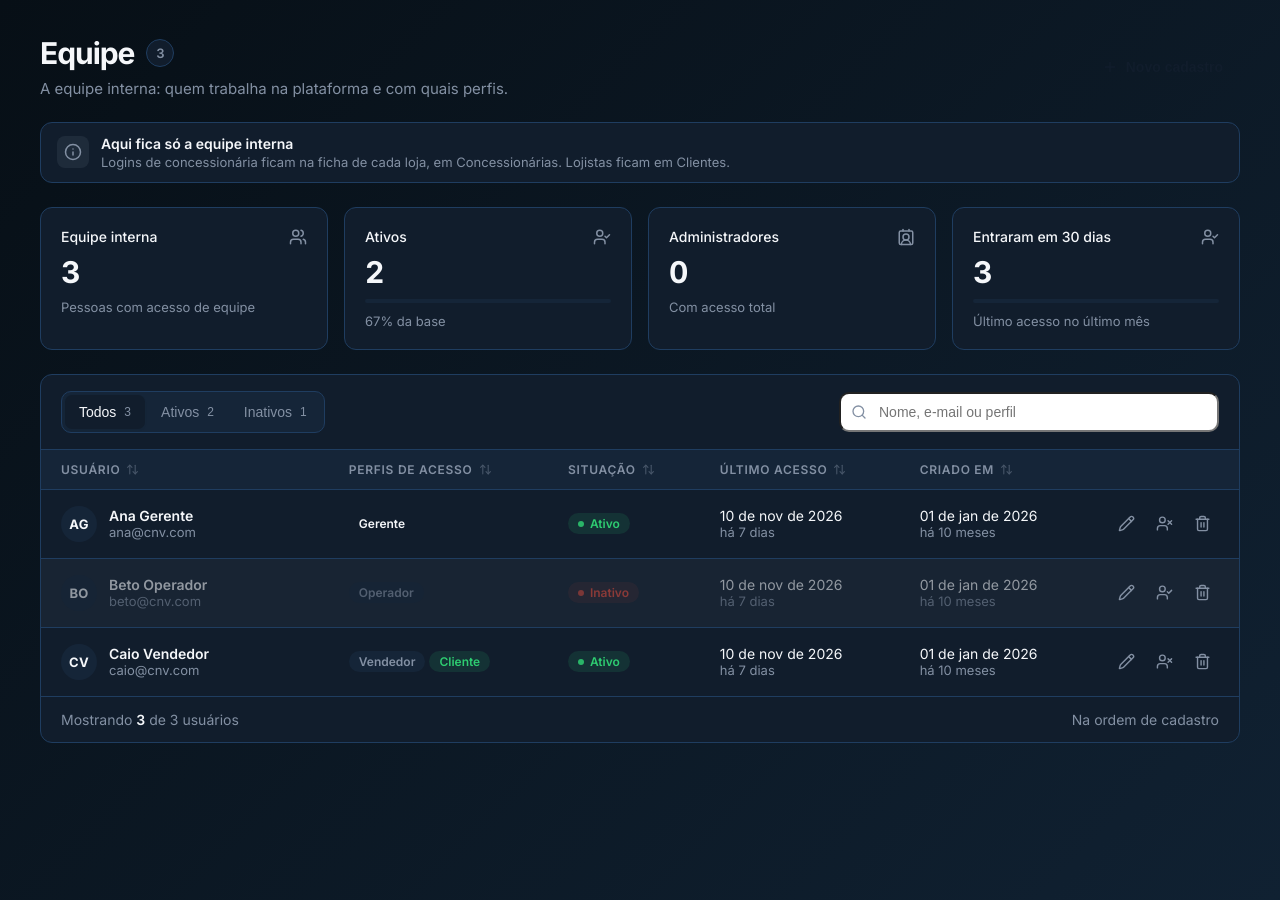
Test: Equipe: só a equipe interna › editar acessos só oferece perfis da equipe
Check: the text "Ana Gerente" is shown, box top-left (109, 507), bottom-right (196, 524)
Click the button named "Editar acessos" in the row of "AG" at point(1126, 524), box top-left (1109, 506), bottom-right (1143, 540)
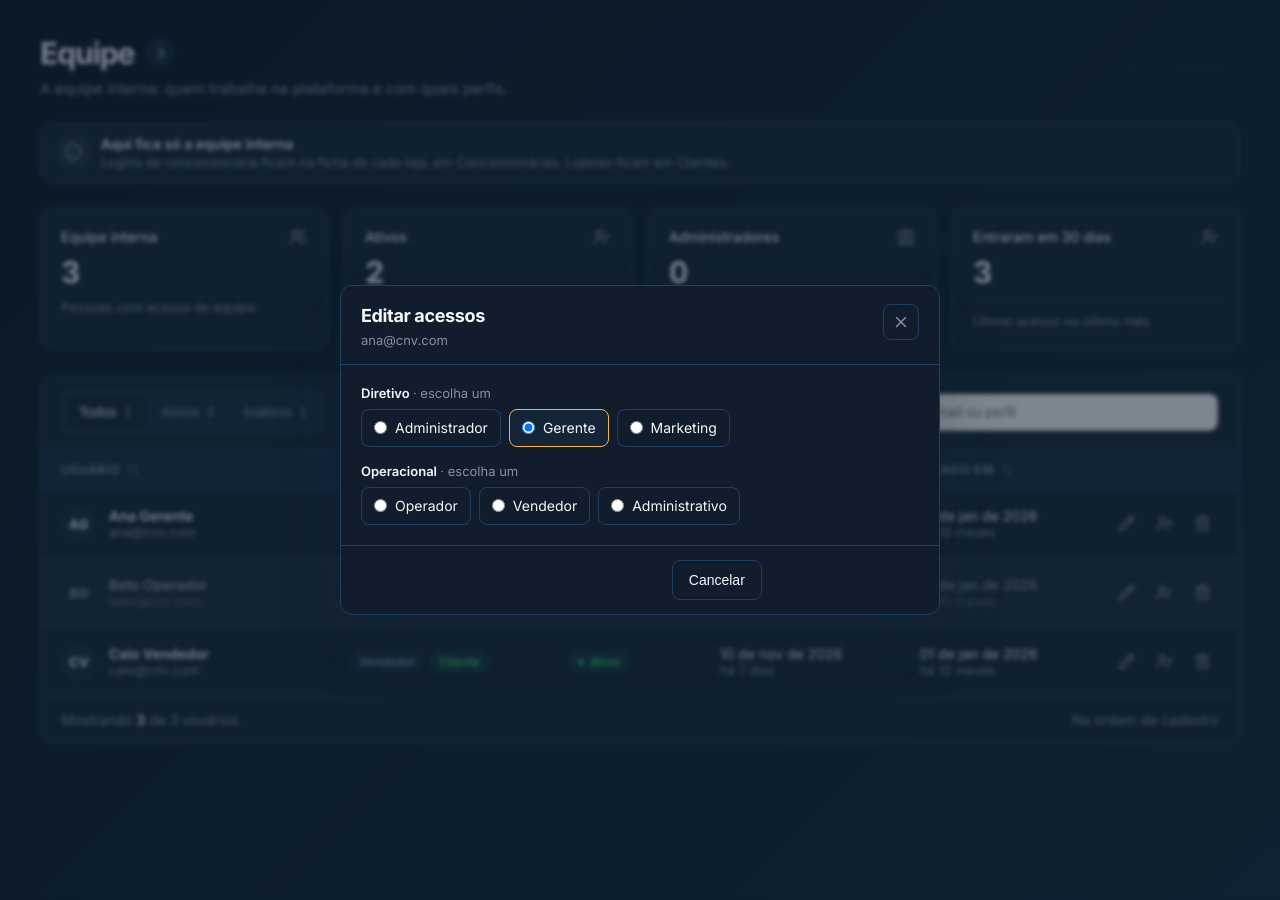
Check: the radio button labelled "Gerente" is checked, box top-left (522, 421), bottom-right (535, 434)
